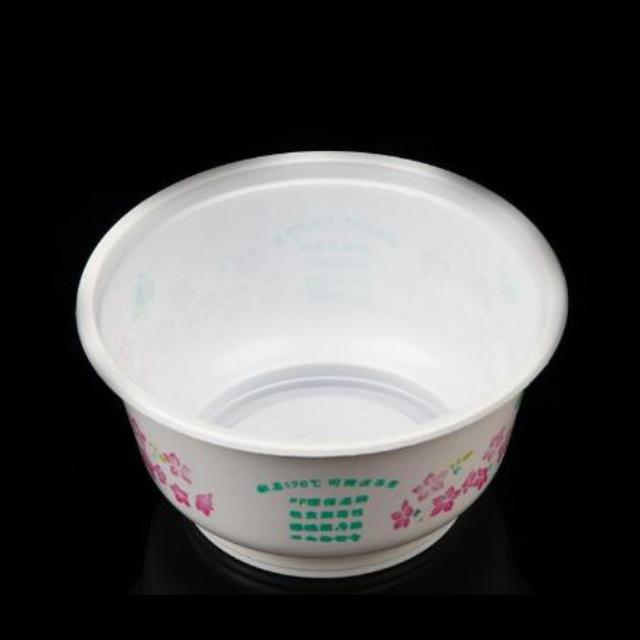plastic_box: (68, 140, 570, 578)
